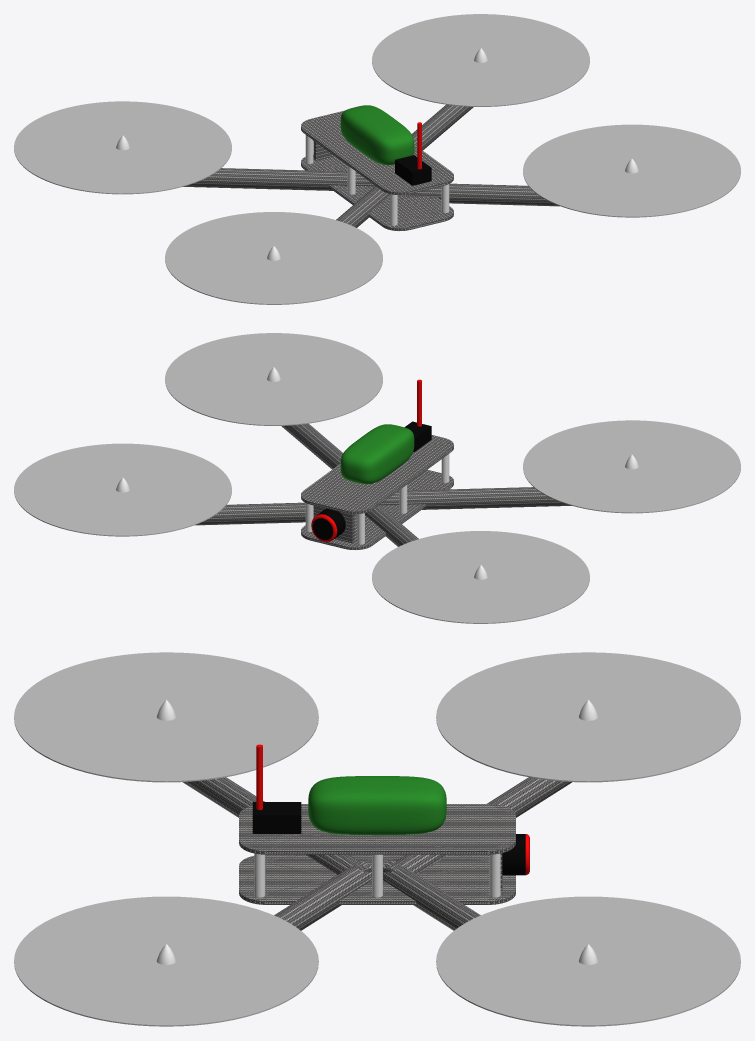
Rendered from qcopter.dae.
3 renders of one model, top to bottom at view 1: azimuth 30°, elevation 25°; view 2: azimuth 150°, elevation 25°; view 3: azimuth 270°, elevation 25°, orthographic. The views are drawn at different scales.
Parts seen in each view (by area): view 1: Solid1, Solid2; view 2: Solid1, Solid2; view 3: Solid1, Solid2.
Boxes of the visible parts, x1,y1,x2,y2 form: Solid1: (14, 14, 740, 304); Solid2: (340, 105, 414, 165); Solid1: (14, 333, 740, 623); Solid2: (340, 424, 414, 484); Solid1: (14, 652, 740, 1026); Solid2: (308, 776, 446, 834).
Size of the model in its own units: 637 by 115 by 525.
Materials: 7 (2 with a texture image).
